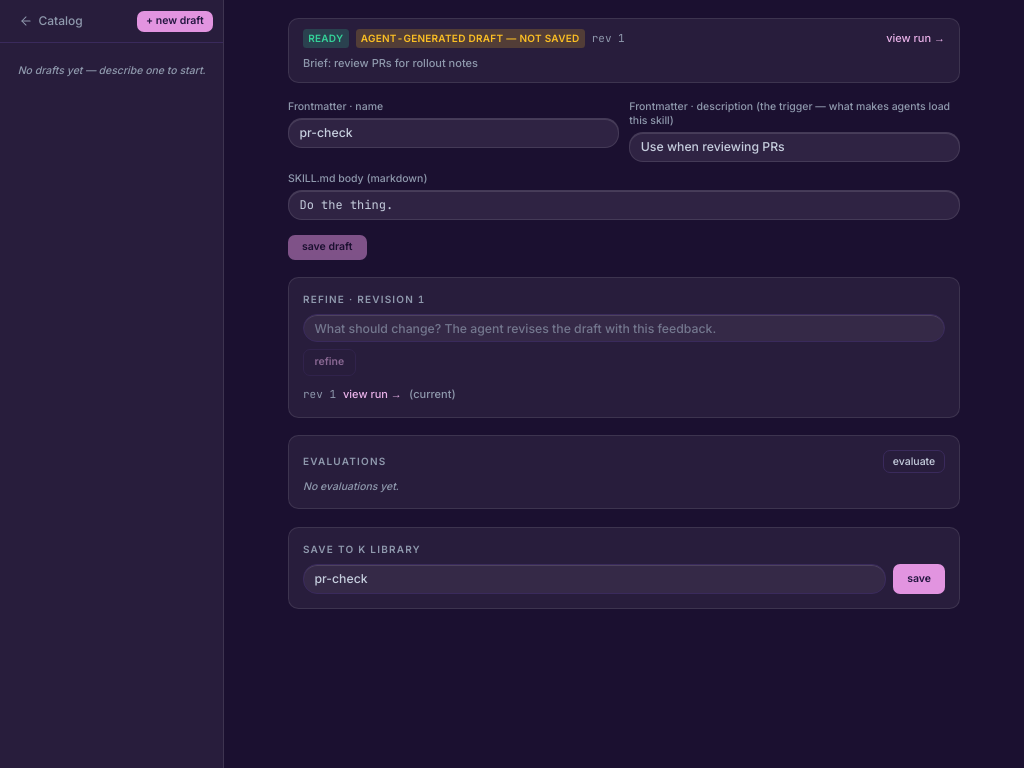
DraftWorkspace — ready draft editing › save 409 (name collision) stays inline — no navigation
The image size is (1024, 768).
Expected: the field with test id "save-name" is shown, [303,564,886,594]
What coordinates should you click on to do the following:
click the button with test id "save-submit"
I would click on:
 (919, 578)
Its box is [893,564,945,594].
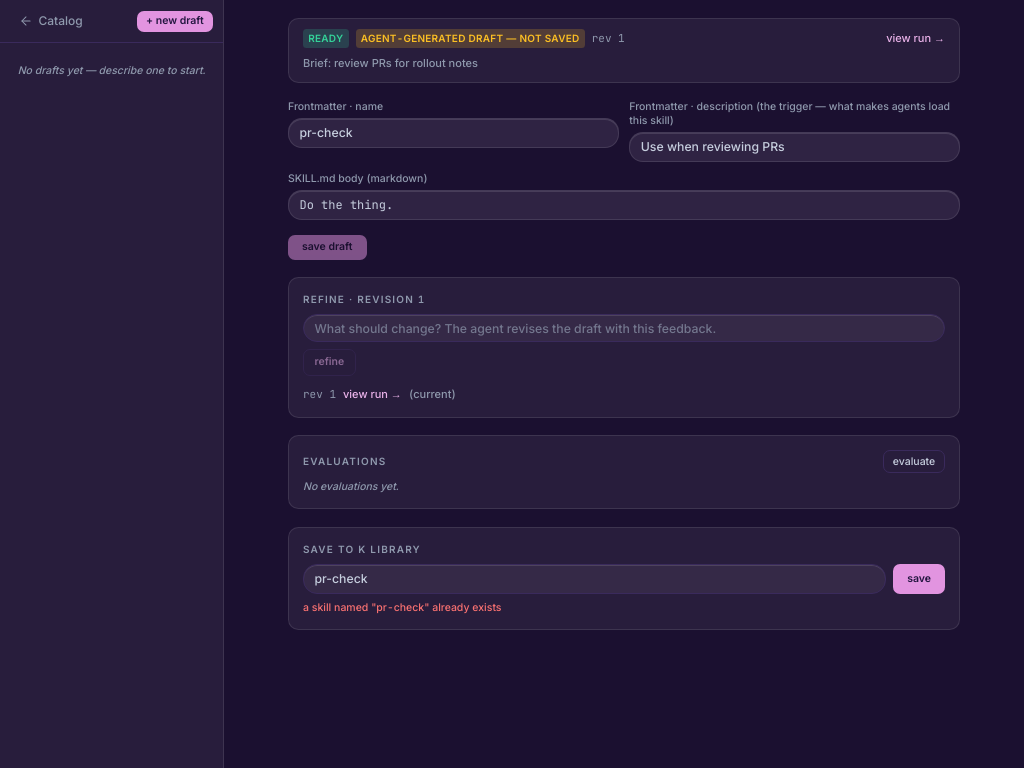
Expected: the text with test id "save-error" reads "a skill named \"pr-check\" already exists", [303,600,502,614]
